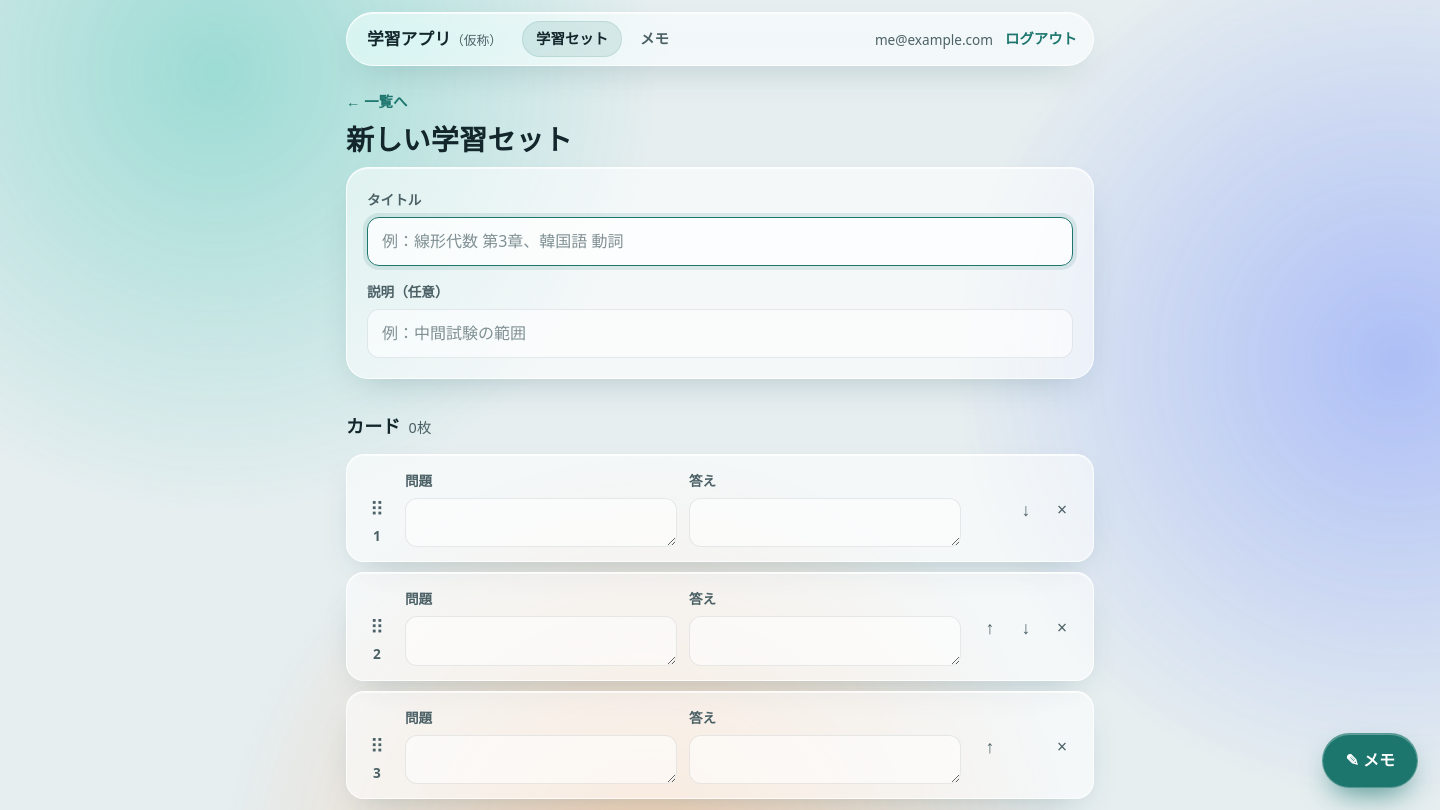
Test: 学習セットを作る › 答えが空のカードがあると作成せず、何枚目かを伝える
The image size is (1440, 810).
In the field labelled "タイトル": [720, 242] box [367,217,1073,266], type "テスト"
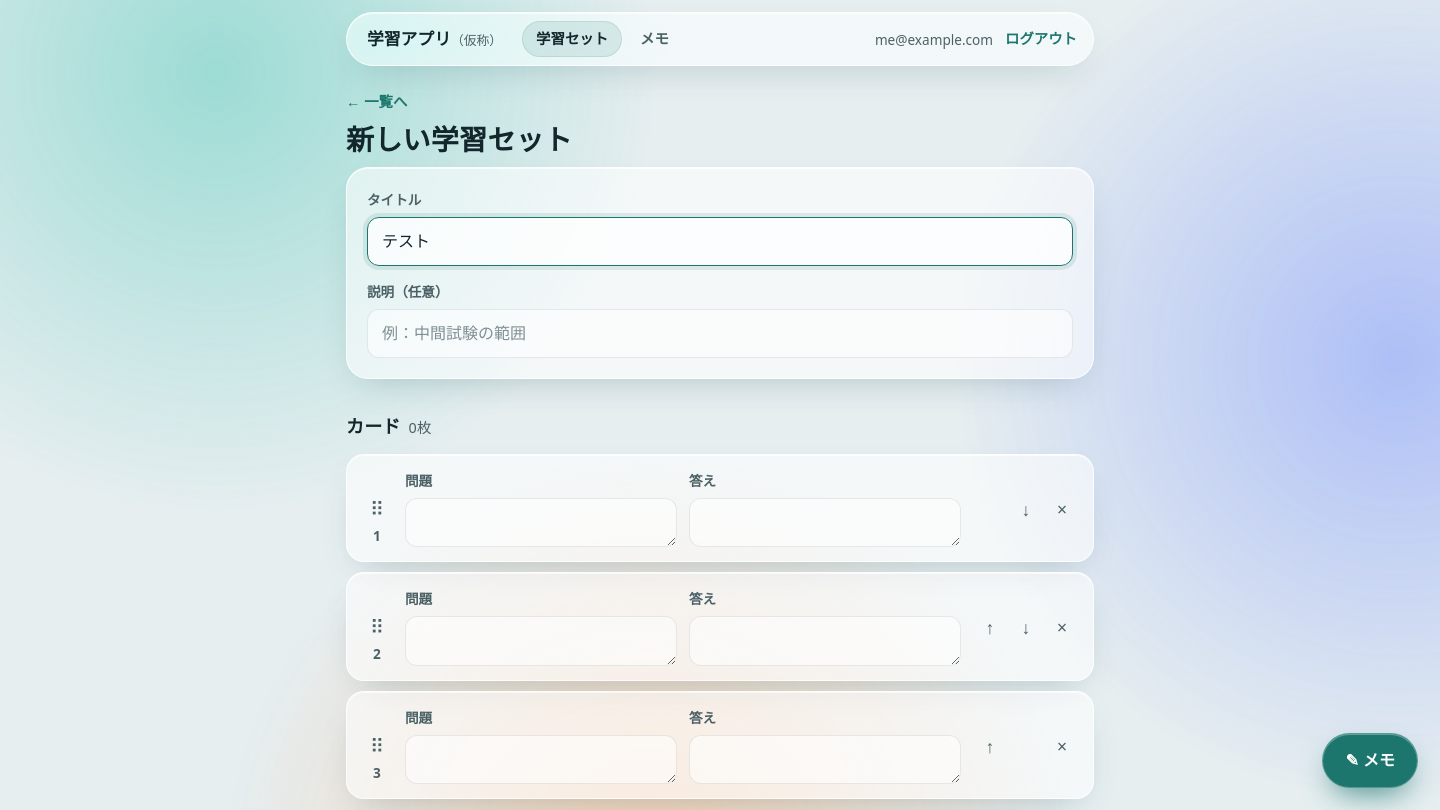
In the text box named "1枚目の問題": [541, 523] box [405,498,677,547], type "問題だけ"
(page scrolled)
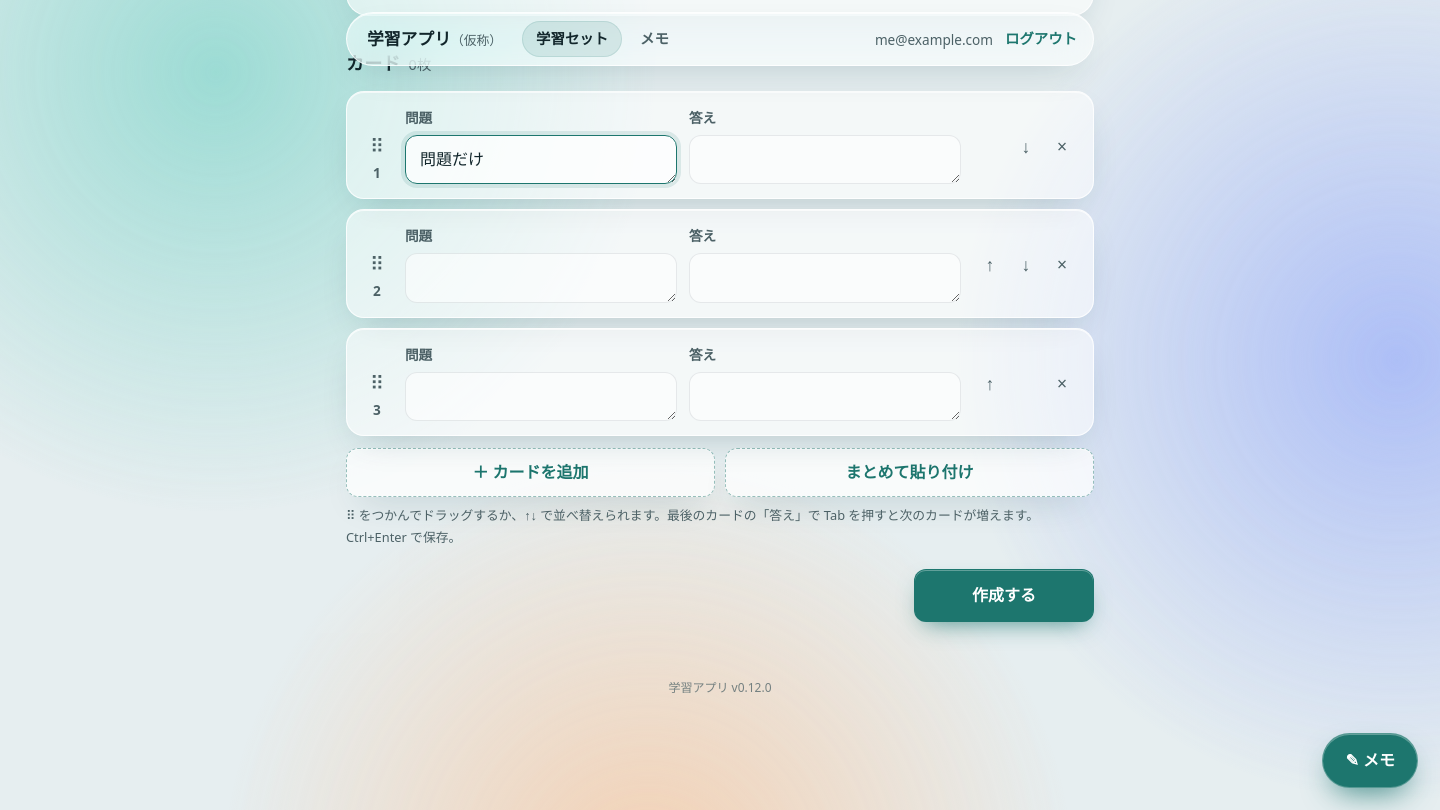
Click the button "作成する": [1004, 595] box [914,569,1094,622]
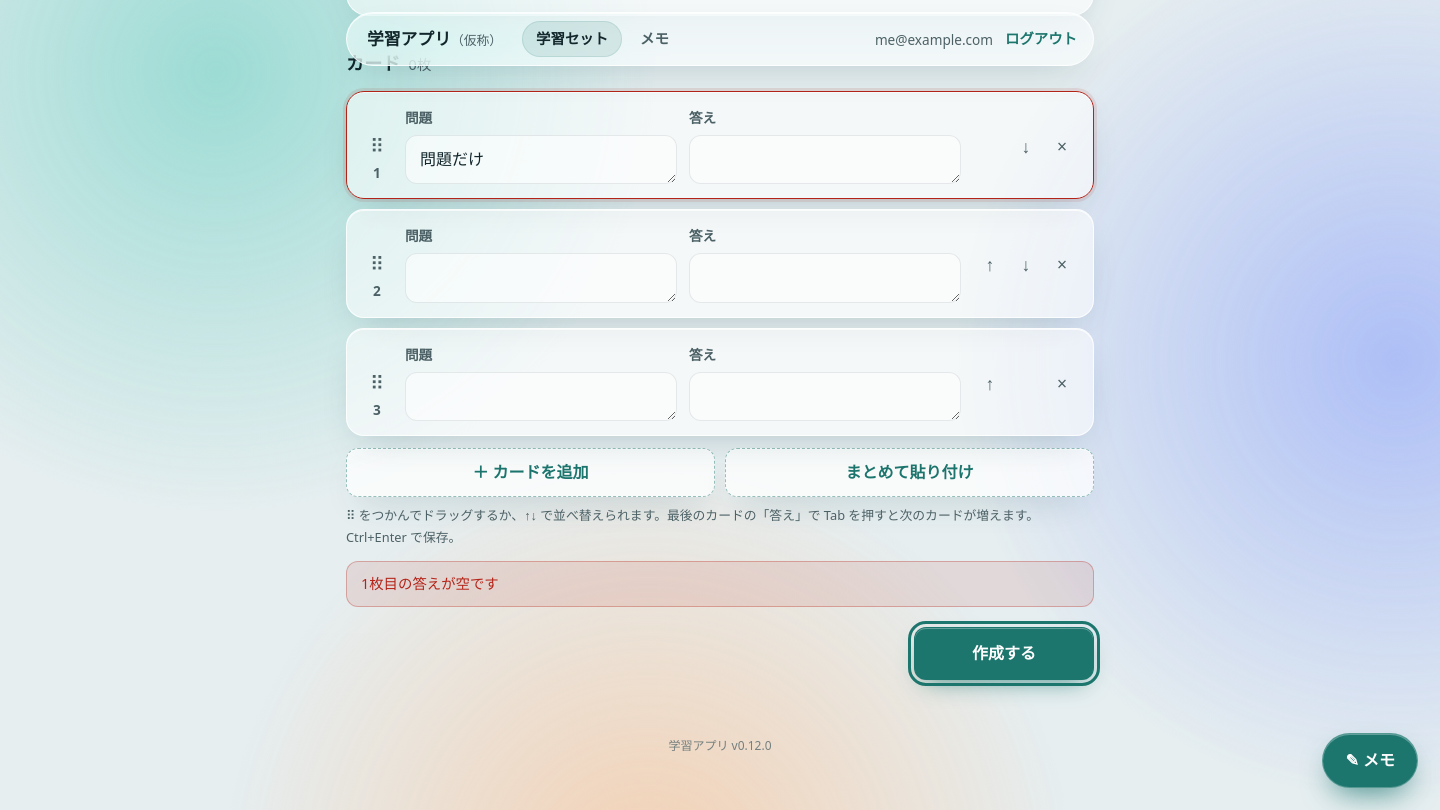
Expected: the message reads "1枚目の答えが空です", [361,574,499,593]
